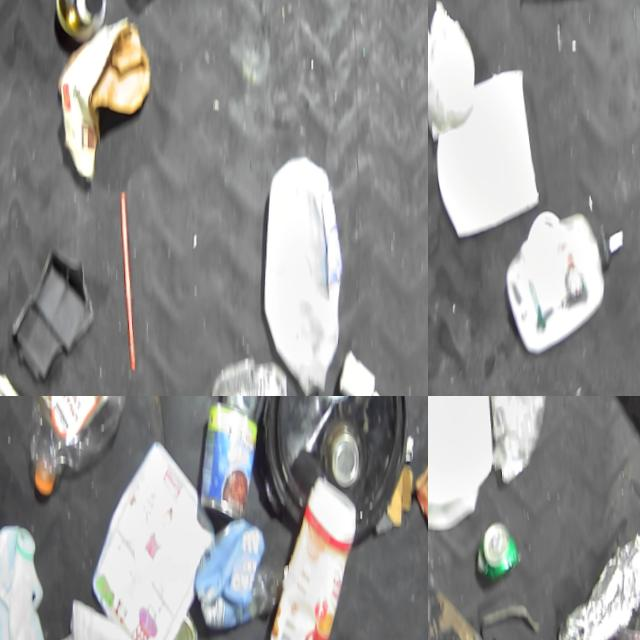can: (197, 396, 260, 517), (475, 509, 524, 574), (52, 0, 107, 37), (164, 602, 202, 640), (0, 366, 26, 396)
milk_jug: (259, 146, 347, 393), (428, 396, 497, 528), (32, 586, 188, 640), (0, 511, 52, 640)
plastic_bottle: (23, 396, 127, 500), (198, 548, 291, 630)
